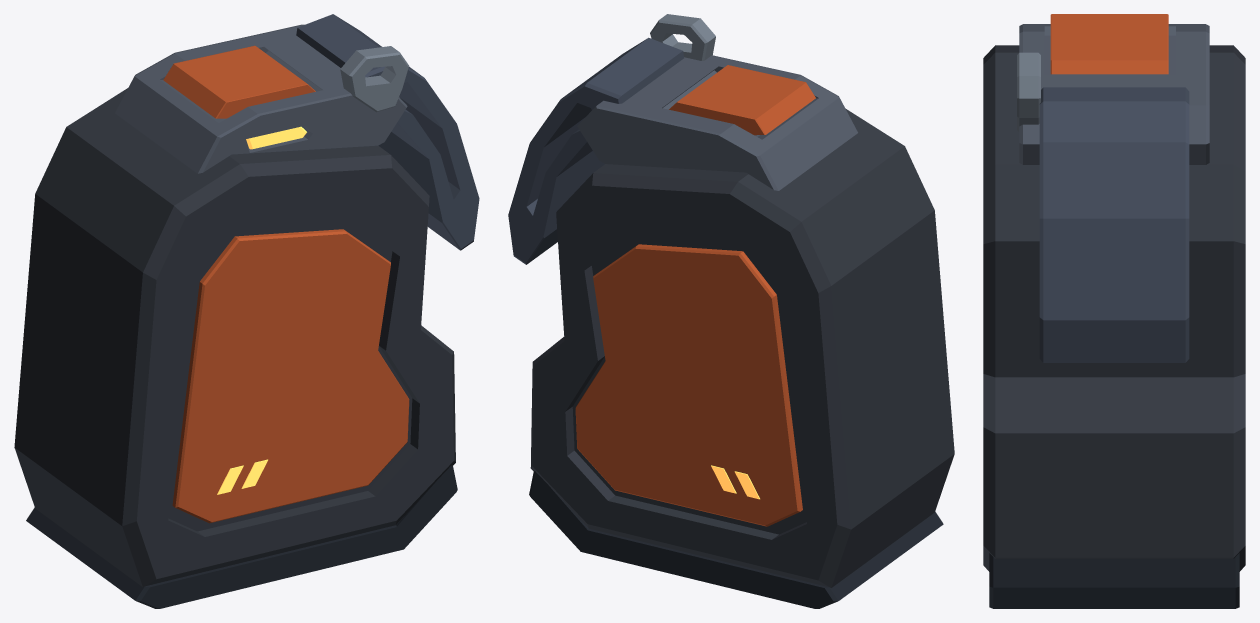
The model's file is Molly.fbx.
The picture shows the model from 3 angles, left to right: view 1: azimuth 30°, elevation 25°; view 2: azimuth 150°, elevation 25°; view 3: azimuth 270°, elevation 25°; orthographic projection. The views are drawn at different scales.
Visible parts, largest first — view 1: Body, HeatCassette_Front, FuseHead, Lever, FootShoe, PrimePad, Pin, Fuse_Energy; view 2: Body, HeatCassette_Rear, FuseHead, Lever, FootShoe, PrimePad, Pin; view 3: Body, Lever, FootShoe, FuseHead, PrimePad, Pin.
Boxes of the visible parts, left/top/right/bottom form: Body: left=14, top=88, right=455, bottom=586; HeatCassette_Front: left=172, top=229, right=409, bottom=523; FuseHead: left=115, top=24, right=407, bottom=173; Lever: left=296, top=14, right=479, bottom=250; FootShoe: left=26, top=465, right=457, bottom=608; PrimePad: left=163, top=45, right=315, bottom=118; Pin: left=340, top=46, right=408, bottom=112; Fuse_Energy: left=246, top=126, right=306, bottom=149; Body: left=530, top=108, right=954, bottom=587; HeatCassette_Rear: left=575, top=244, right=802, bottom=526; FuseHead: left=577, top=55, right=857, bottom=190; Lever: left=508, top=37, right=683, bottom=264; FootShoe: left=529, top=471, right=943, bottom=608; PrimePad: left=669, top=65, right=815, bottom=135; Pin: left=650, top=14, right=715, bottom=60; Body: left=983, top=45, right=1245, bottom=571; Lever: left=1039, top=87, right=1189, bottom=362; FootShoe: left=989, top=553, right=1239, bottom=608; FuseHead: left=1019, top=24, right=1209, bottom=164; PrimePad: left=1050, top=14, right=1168, bottom=74; Pin: left=1017, top=52, right=1040, bottom=131.
Size of the model in its own units: 0.402 by 0.496 by 0.218.
